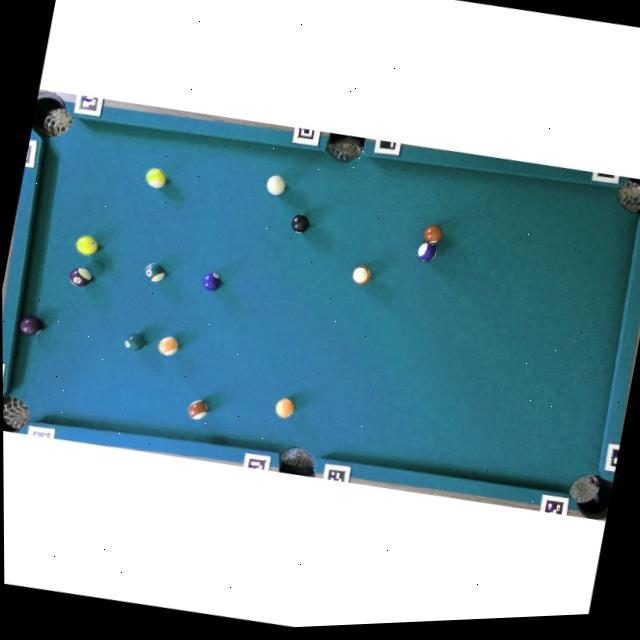cue ball: (264, 172, 288, 198)
other: (17, 314, 46, 339), (74, 233, 100, 258), (68, 266, 94, 290), (144, 166, 168, 191), (142, 261, 167, 285), (157, 334, 181, 358), (416, 239, 439, 263), (187, 398, 210, 422), (274, 396, 296, 420), (422, 222, 444, 246), (124, 331, 147, 353), (290, 213, 311, 235), (202, 271, 223, 293), (352, 264, 373, 286)
